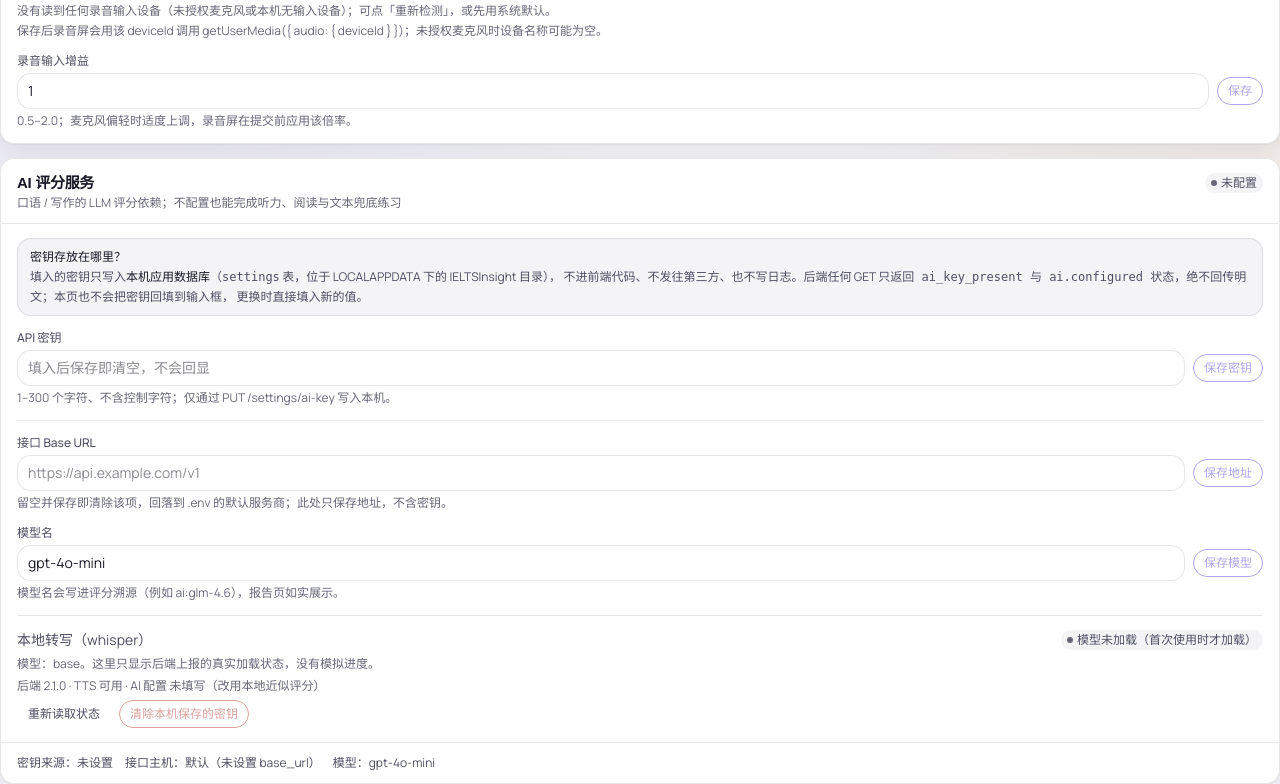
Test case: AC-C3 状态只说真话 › whisper 未加载时如实标注，没有假进度；/health 变化后重新读取才更新
This screenshot has width=1280, height=784.
(page scrolled)
Check: the text "模型未加载（首次使用时才加载）" is shown, box [1061,630,1263,650]
Check: the text "后端 2.1.0 · TTS 可用 · AI 配置 未填写（改用本地近似评分）" is shown, box [17,677,326,694]
Click the button "重新读取状态" at (64, 714), box [17,700,111,728]
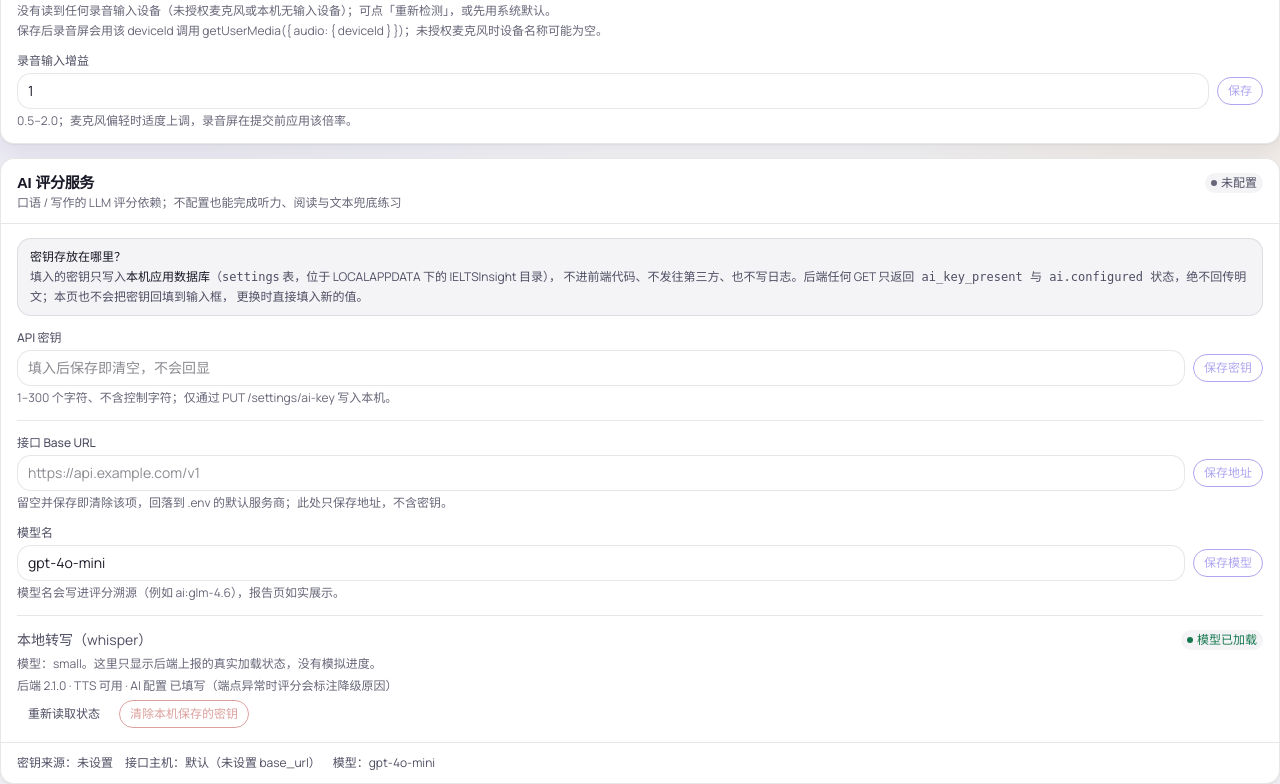
Check: the text "模型已加载" is shown, box [1181,630,1263,650]
Check: the text "后端 2.1.0 · TTS 可用 · AI 配置 已填写（端点异常时评分会标注降级原因）" is shown, box [17,677,398,694]
